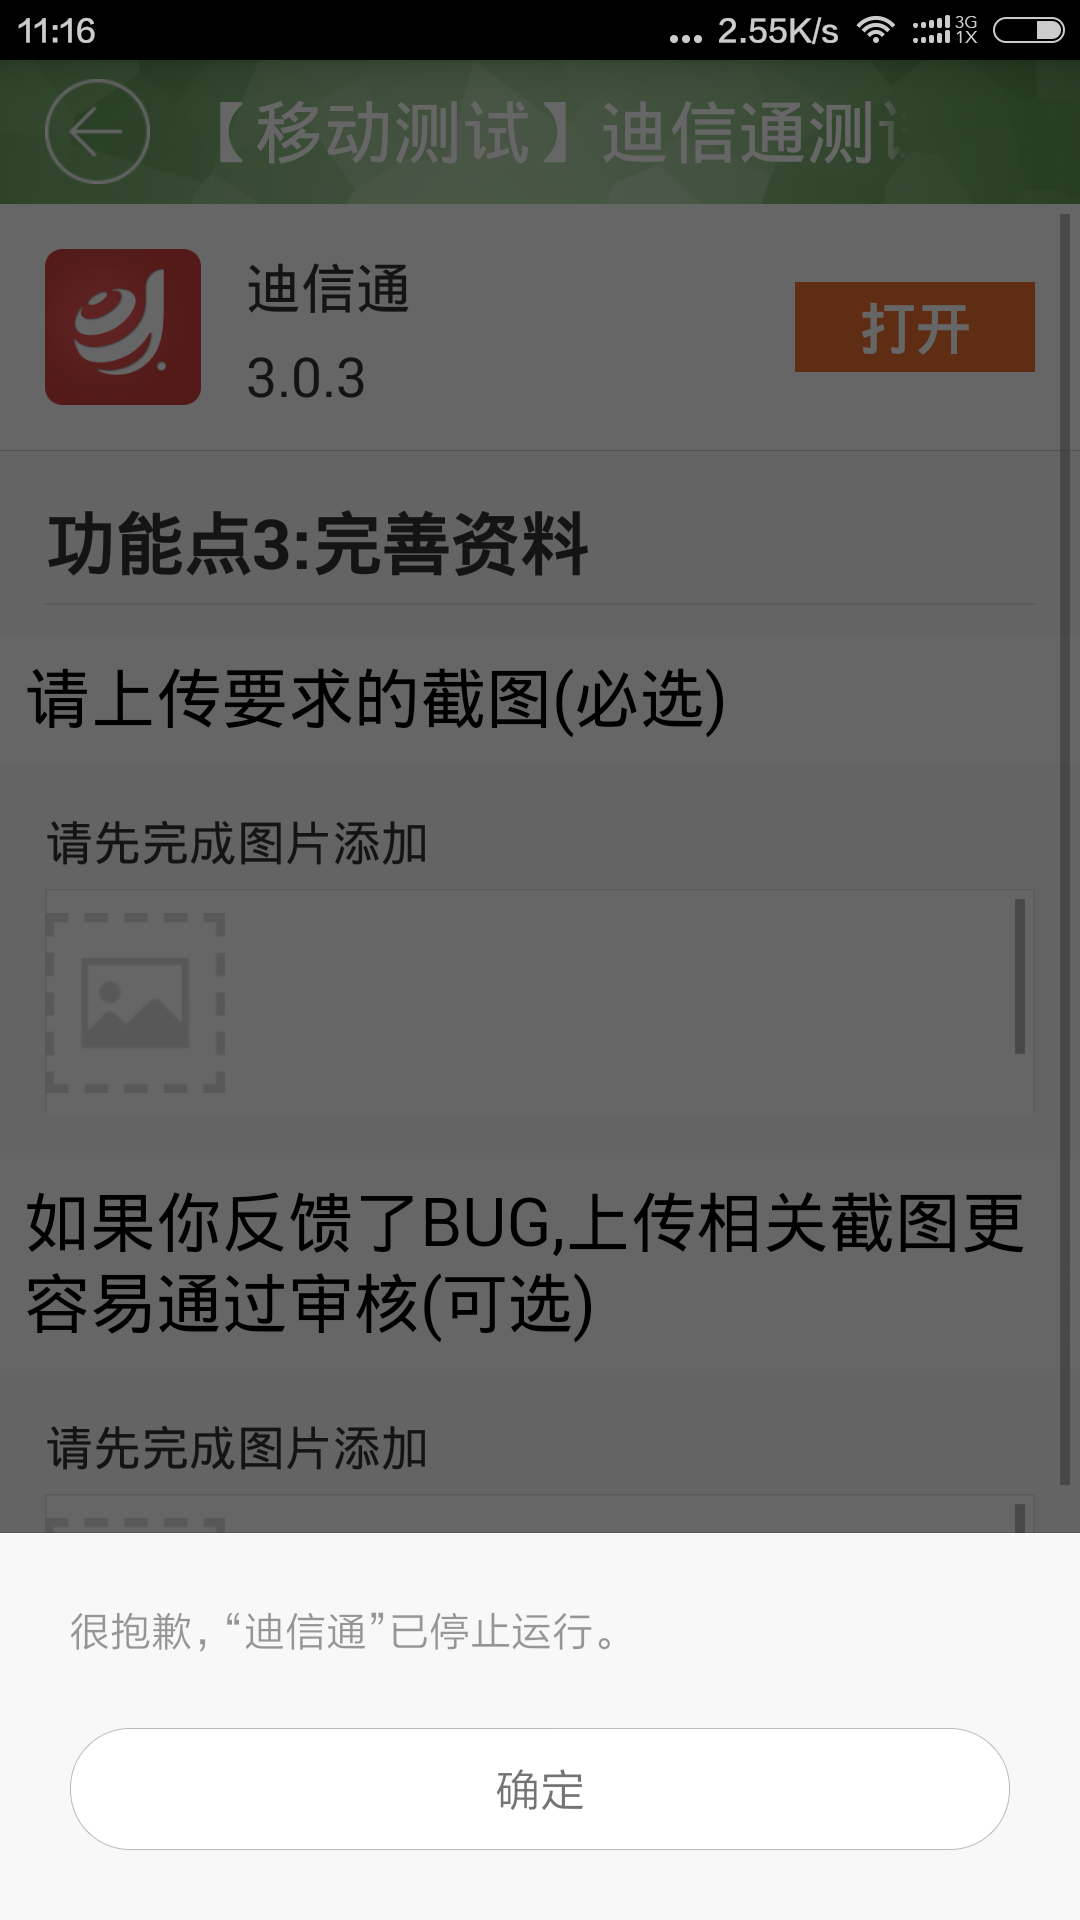alert: (4, 1522, 1080, 1911)
